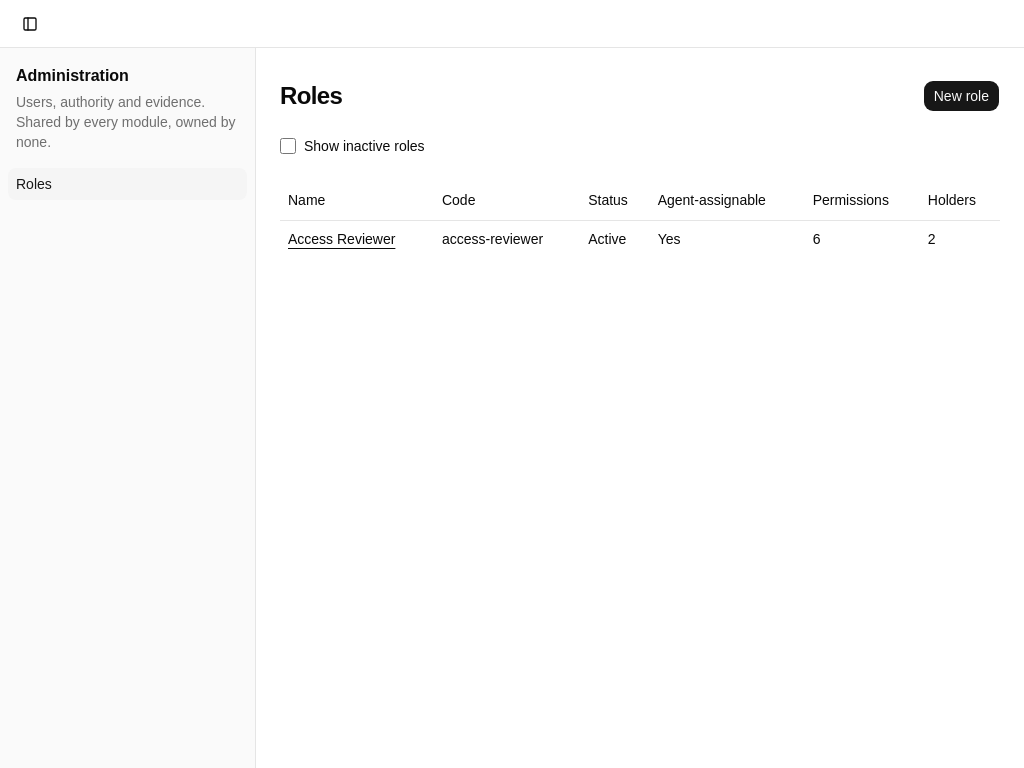
Test case: creating › announces, re-reads the list and closes, and the new role is active with nothing granted
The width and height of the screenshot is (1024, 768).
Check: the table named "Roles" is shown, box [280,180,1000,256]
Click the button "New role".
click(961, 96)  # box [923,80,1000,112]
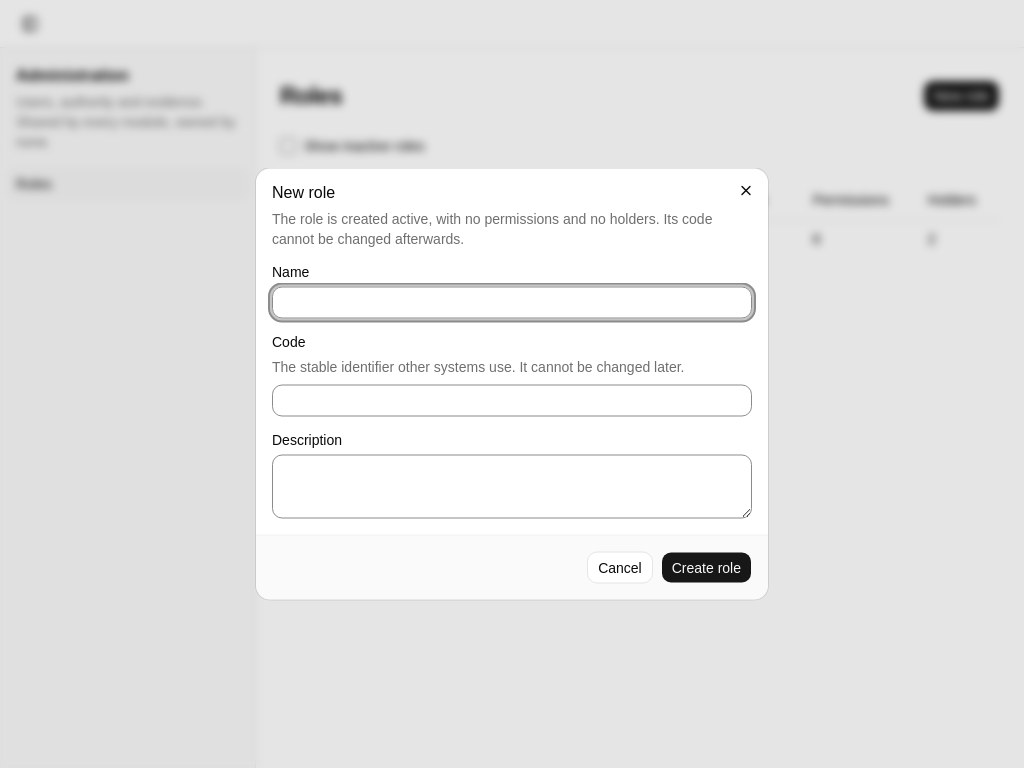
Type keys "Quality Reviewer"
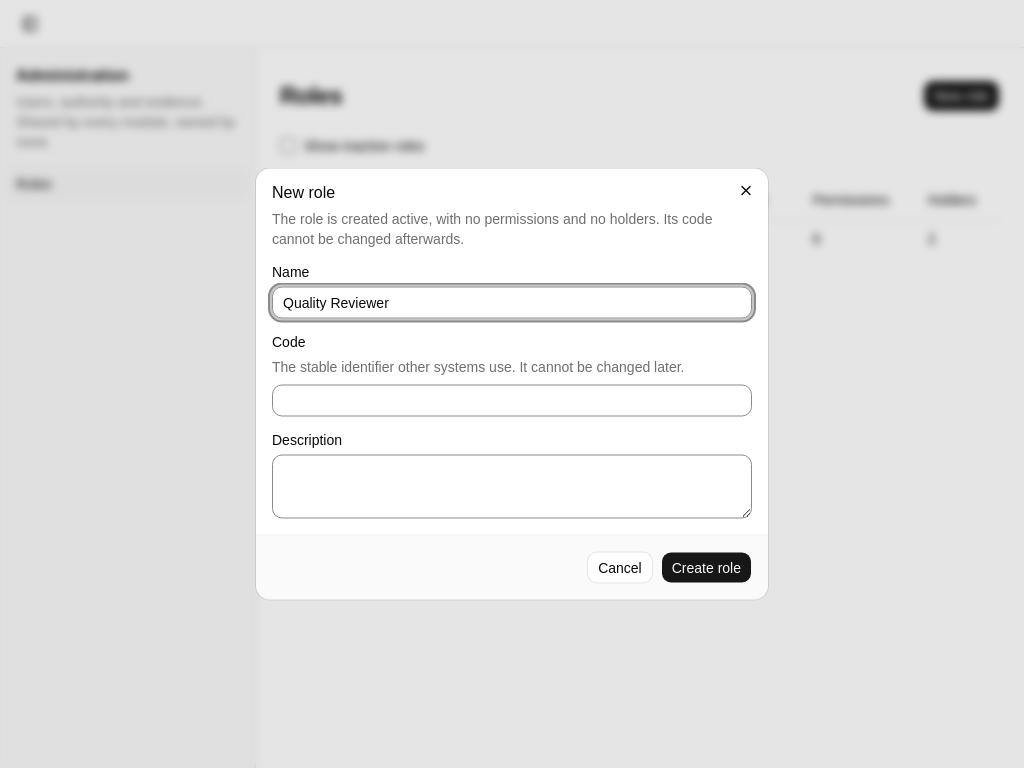
Clear the field labelled "Code" at (512, 400), box [272,384,752,416]
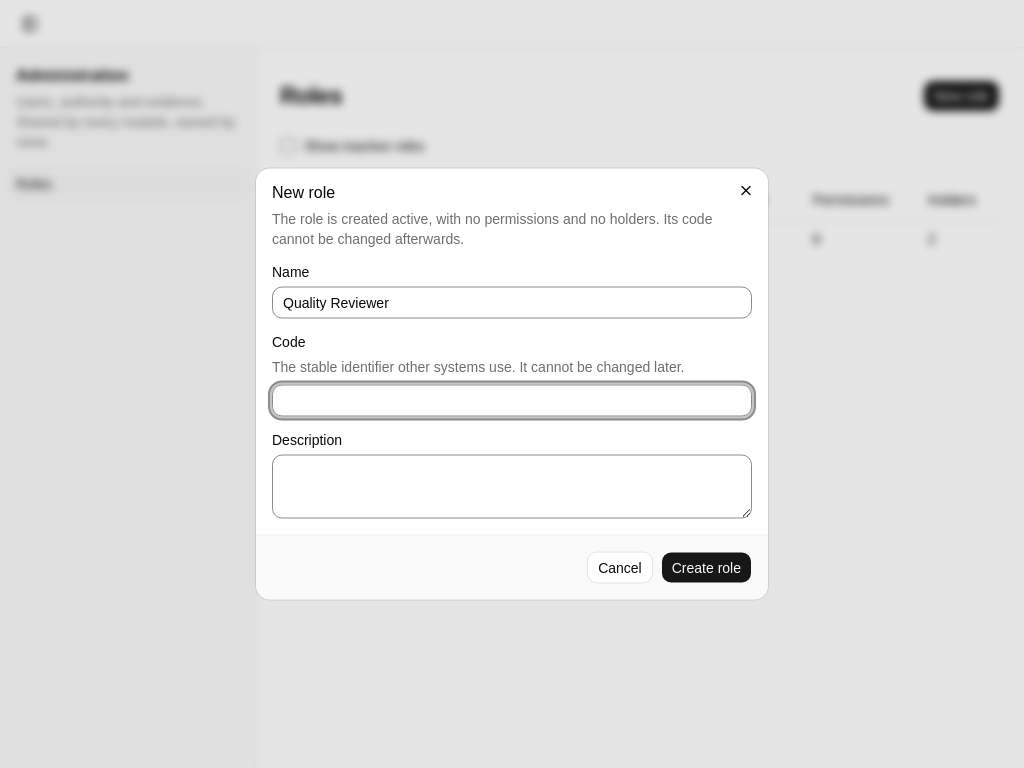
Type keys "quality-reviewer"
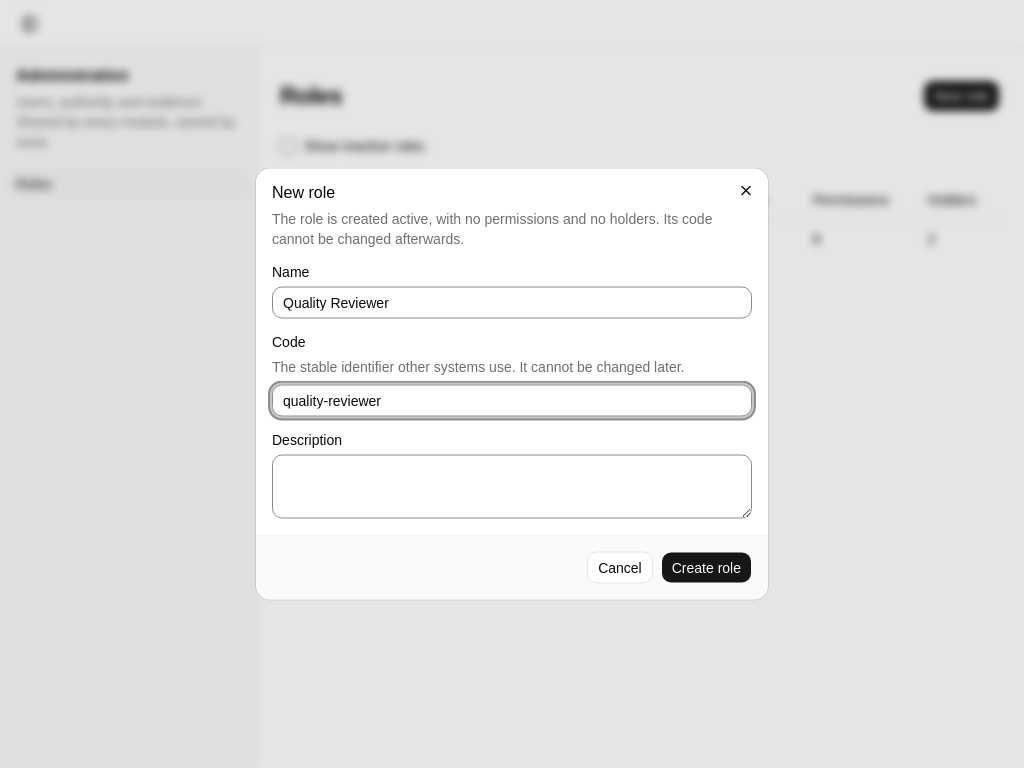
Click the button "Create role".
click(706, 568)  # box [661,552,752,584]
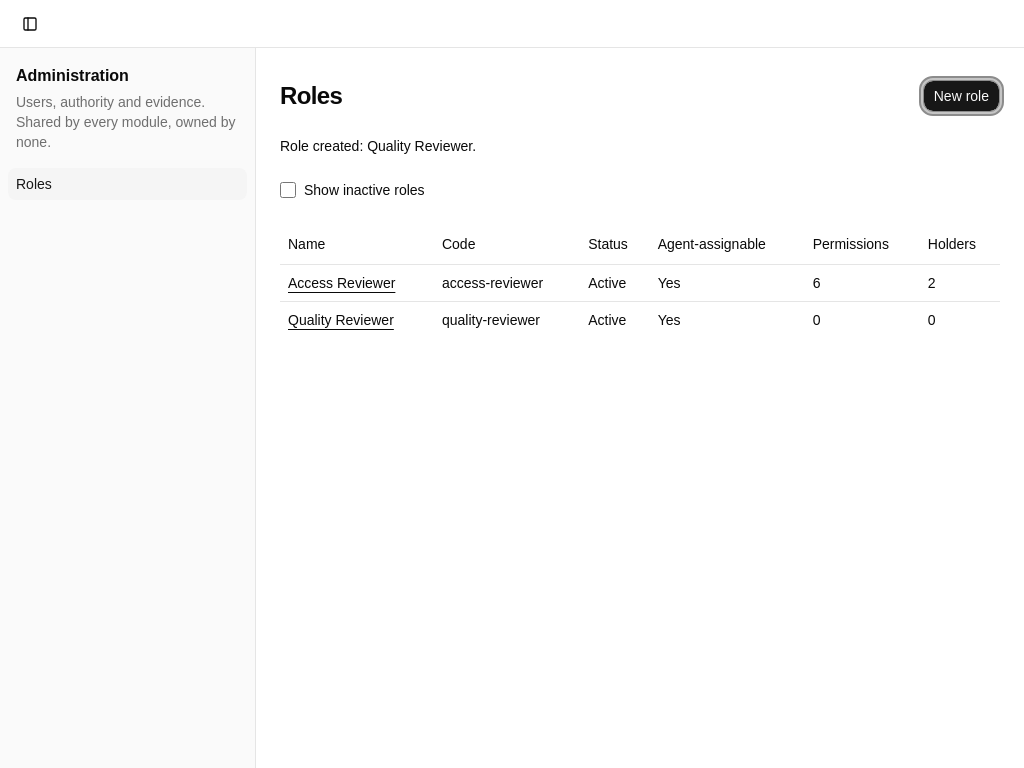
Check: the text "Active" next to "quality-reviewer" is shown, box [588,312,626,328]
Check: the dialog is gone
Check: the message reads "Role created: Quality Reviewer.", box [280,138,476,154]
